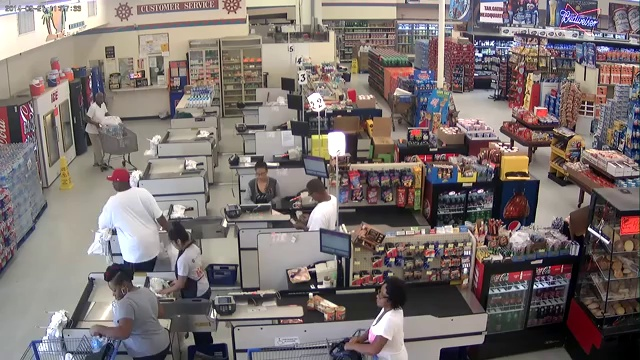face: (372, 284, 394, 311), (107, 274, 126, 299), (254, 169, 268, 181)
